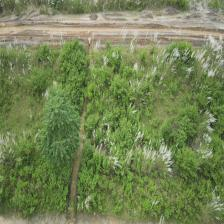vegetation: (0, 137, 71, 217), (41, 89, 80, 168), (59, 40, 89, 114)
